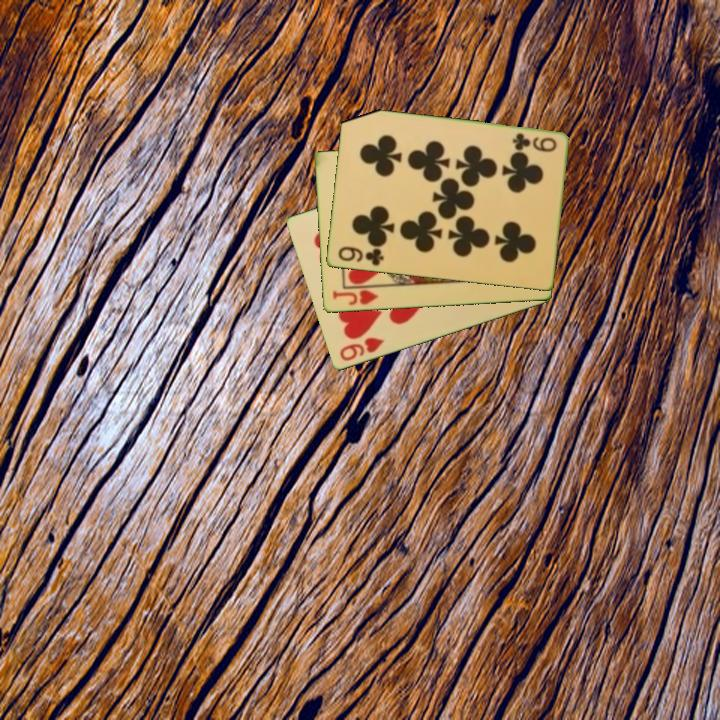9c: (334, 243, 386, 269), (508, 130, 559, 155)
9h: (336, 334, 386, 364)
Jh: (329, 283, 384, 308)
